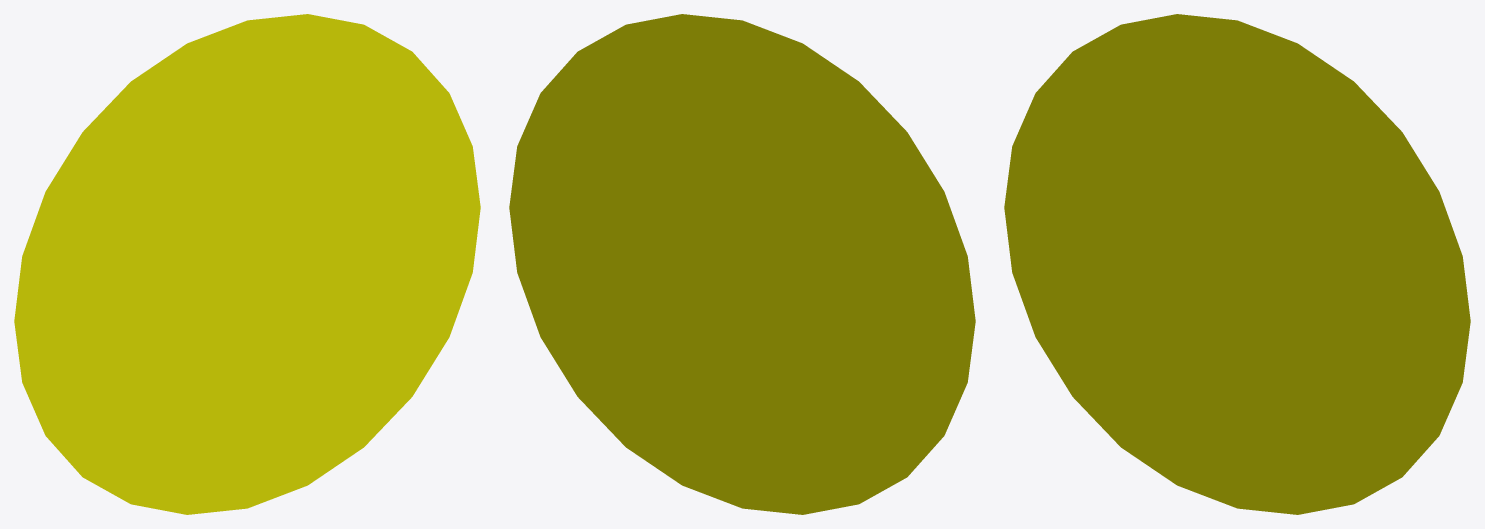
Rendered from bunsen+burner.glb.
The picture shows the model from 3 angles, left to right: view 1: azimuth 30°, elevation 25°; view 2: azimuth 150°, elevation 25°; view 3: azimuth 330°, elevation 25°; orthographic projection.
Parts seen in each view (by area): view 1: Node2, Node4, Node1, Node3; view 2: Node2, Node4, Node1, Node3; view 3: Node1, Node3, Node2, Node4.
Boxes of the visible parts, left/top/right/bottom form: Node2: left=14, top=20, right=247, bottom=321; Node4: left=247, top=207, right=480, bottom=508; Node1: left=247, top=14, right=480, bottom=264; Node3: left=14, top=264, right=247, bottom=514; Node2: left=742, top=20, right=975, bottom=321; Node4: left=509, top=207, right=742, bottom=508; Node1: left=509, top=14, right=742, bottom=264; Node3: left=742, top=264, right=975, bottom=514; Node1: left=1237, top=20, right=1470, bottom=321; Node3: left=1004, top=207, right=1237, bottom=508; Node2: left=1004, top=14, right=1237, bottom=264; Node4: left=1237, top=264, right=1470, bottom=514.
Bounding box in the file's own units: 58.88 × 58.88 × 0.
